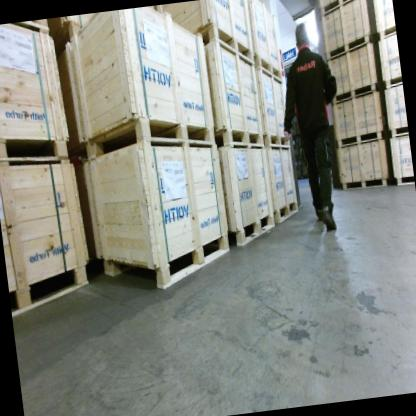stillage: (296, 135, 309, 161), (299, 156, 312, 178), (286, 115, 297, 141), (292, 156, 302, 181), (294, 113, 304, 137), (290, 135, 300, 158)
